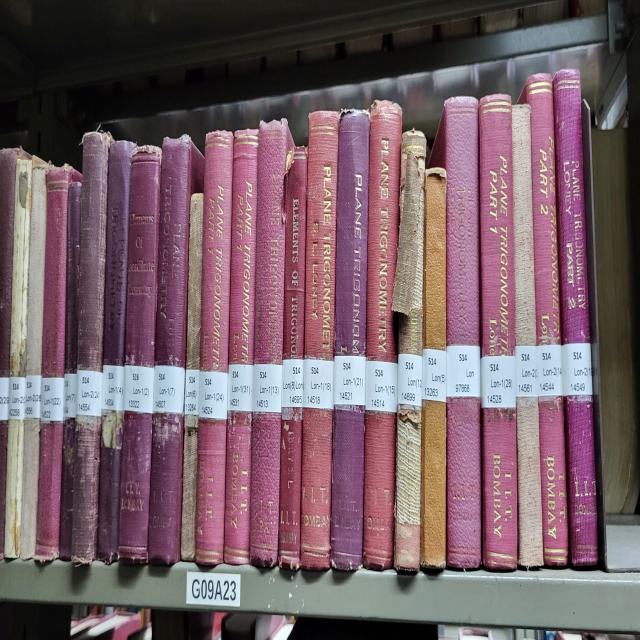Book: (519, 73, 568, 565), (430, 97, 481, 568), (149, 135, 204, 565), (552, 70, 598, 565), (250, 119, 294, 565), (479, 95, 518, 571), (331, 111, 370, 571), (35, 165, 80, 563), (300, 111, 339, 568), (364, 100, 402, 568), (119, 146, 161, 563), (71, 133, 111, 563), (195, 130, 234, 565), (98, 141, 134, 563), (224, 130, 259, 563), (395, 133, 425, 571), (279, 146, 308, 568), (421, 168, 446, 571), (60, 181, 81, 560), (511, 103, 536, 346), (10, 157, 32, 390), (26, 160, 48, 376), (186, 192, 204, 371), (4, 411, 24, 557)
Label: (481, 354, 516, 409), (446, 346, 481, 398), (365, 360, 398, 414), (302, 357, 334, 409), (334, 354, 366, 406), (152, 365, 185, 414), (561, 344, 592, 395), (252, 363, 282, 414), (124, 365, 154, 414), (536, 344, 562, 398), (199, 371, 228, 419), (422, 349, 446, 403), (228, 363, 254, 411), (398, 354, 422, 406), (76, 371, 102, 417), (515, 346, 538, 398), (281, 360, 304, 409), (101, 365, 125, 411), (41, 376, 64, 422), (185, 368, 200, 417), (9, 376, 26, 419), (25, 376, 41, 419), (64, 373, 78, 419)
